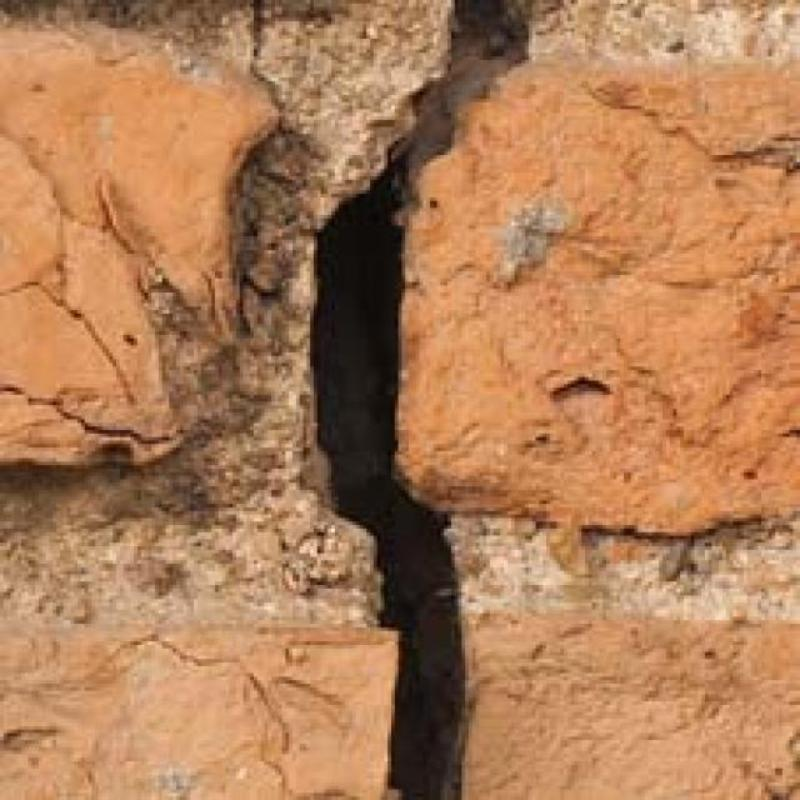pothole: (311, 0, 523, 800)
